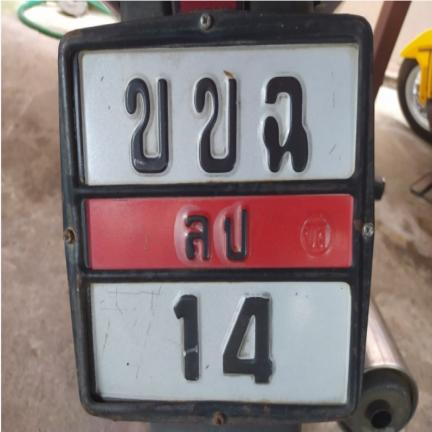1: (166, 286, 207, 384)
4: (217, 285, 284, 385)
A02: (183, 70, 244, 175), (119, 70, 179, 175)
A09: (254, 72, 314, 174)
LPG: (175, 201, 256, 266)
